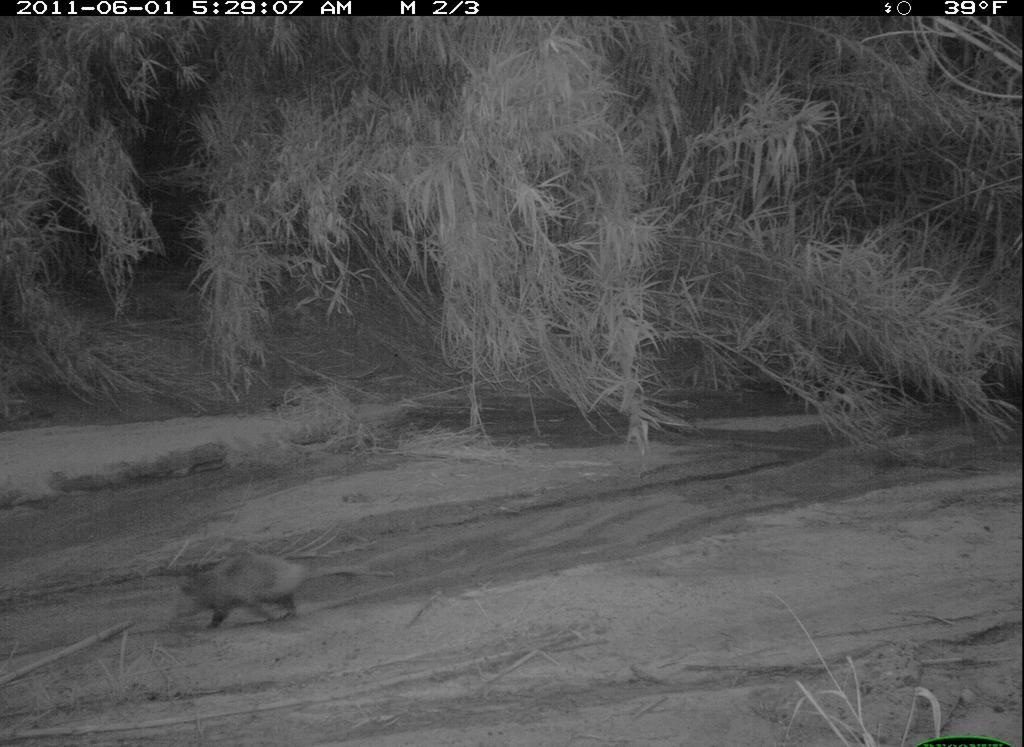opossum: (168, 530, 374, 642)
